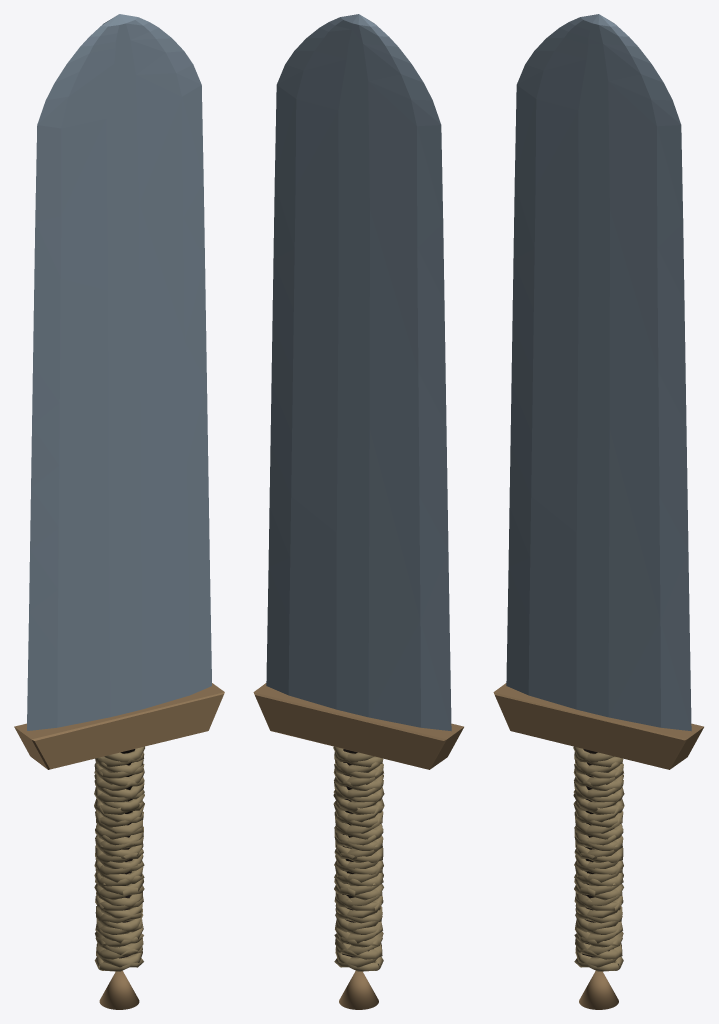
The model's file is khuc-hat-nguoi-keo-luoi.glb.
3 renders of one model, left to right at view 1: azimuth 30°, elevation 25°; view 2: azimuth 150°, elevation 25°; view 3: azimuth 330°, elevation 25°, orthographic.
Visible parts, largest first — view 1: blade, wrap, guard, pommel; view 2: blade, wrap, guard, pommel; view 3: blade, wrap, guard, pommel.
Part boxes in pixels (x1,y1,x2,y2): blade: [27, 14, 211, 730]; wrap: [94, 746, 144, 971]; guard: [14, 683, 224, 769]; pommel: [99, 971, 139, 1009]; blade: [266, 14, 451, 731]; wrap: [333, 746, 384, 971]; guard: [253, 683, 463, 769]; pommel: [339, 971, 378, 1009]; blade: [506, 14, 691, 731]; wrap: [573, 746, 624, 971]; guard: [493, 683, 703, 769]; pommel: [579, 971, 618, 1009].
Bounding box in the file's own units: 0.3354 × 1.64 × 0.0761.
